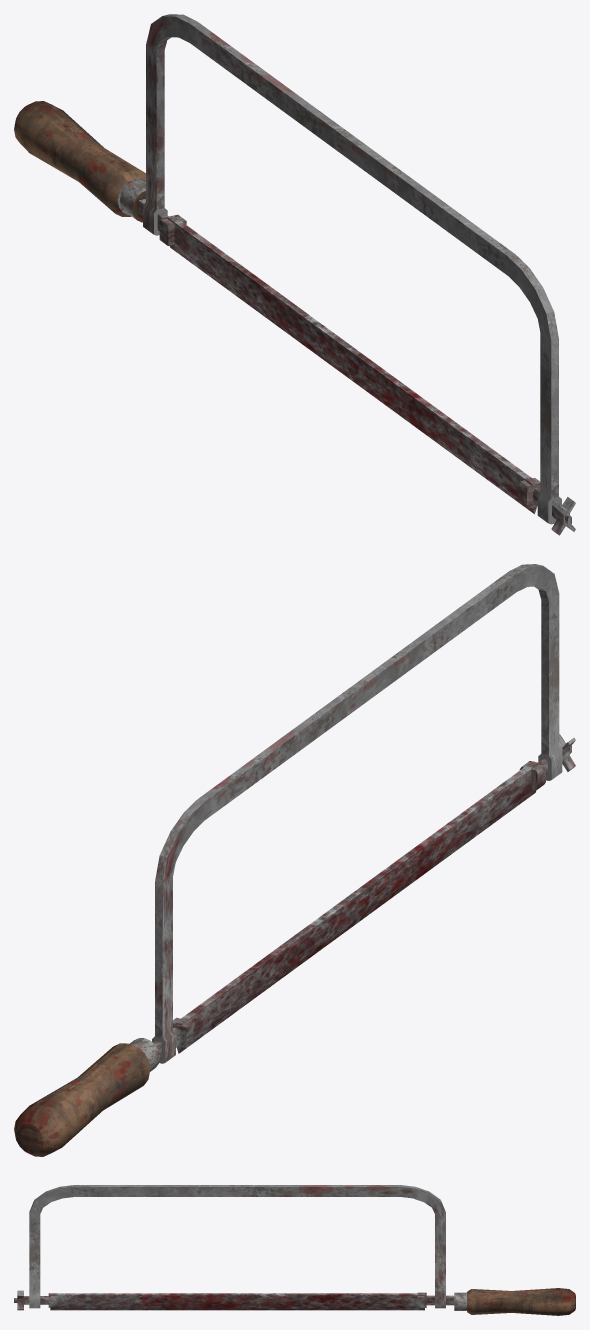
File: zaag.fbx
3 renders of one model, top to bottom at view 1: azimuth 30°, elevation 25°; view 2: azimuth 150°, elevation 25°; view 3: azimuth 270°, elevation 25°, orthographic. The views are drawn at different scales.
Visible parts, largest first — view 1: Cube.023; view 2: Cube.023; view 3: Cube.023.
Boxes of the visible parts, bbox=[...] form: Cube.023: bbox=[14, 14, 575, 535]; Cube.023: bbox=[14, 564, 575, 1156]; Cube.023: bbox=[14, 1185, 575, 1315].
Size of the model in its own units: 3.52 by 17.68 by 70.79.
